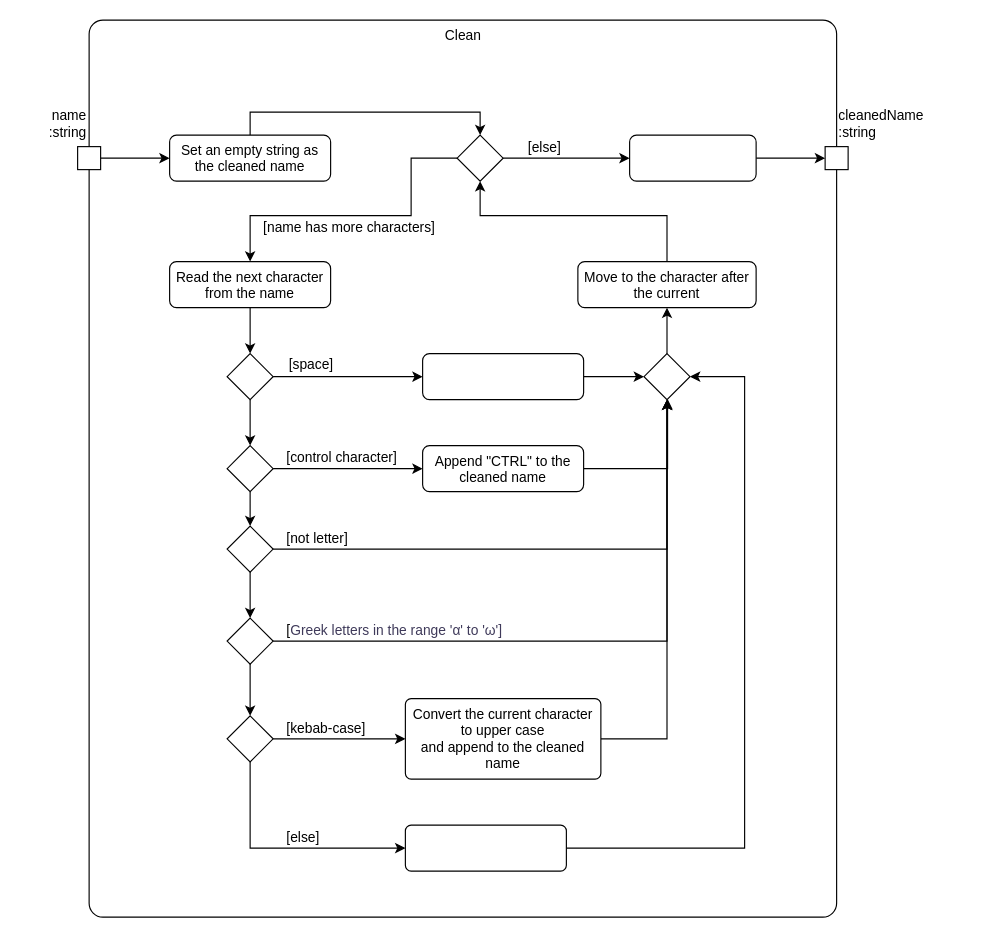
This 994x937 diagram has some shape labels left out. The shapes that lost their labels are listed below. From the top down, each one's centre as x and y in pixels, then its label:
the point at 692,157: Return the cleaned name
the point at 502,376: Append underscore to the cleaned name
the point at 485,847: Append the character as is to the cleaned name
